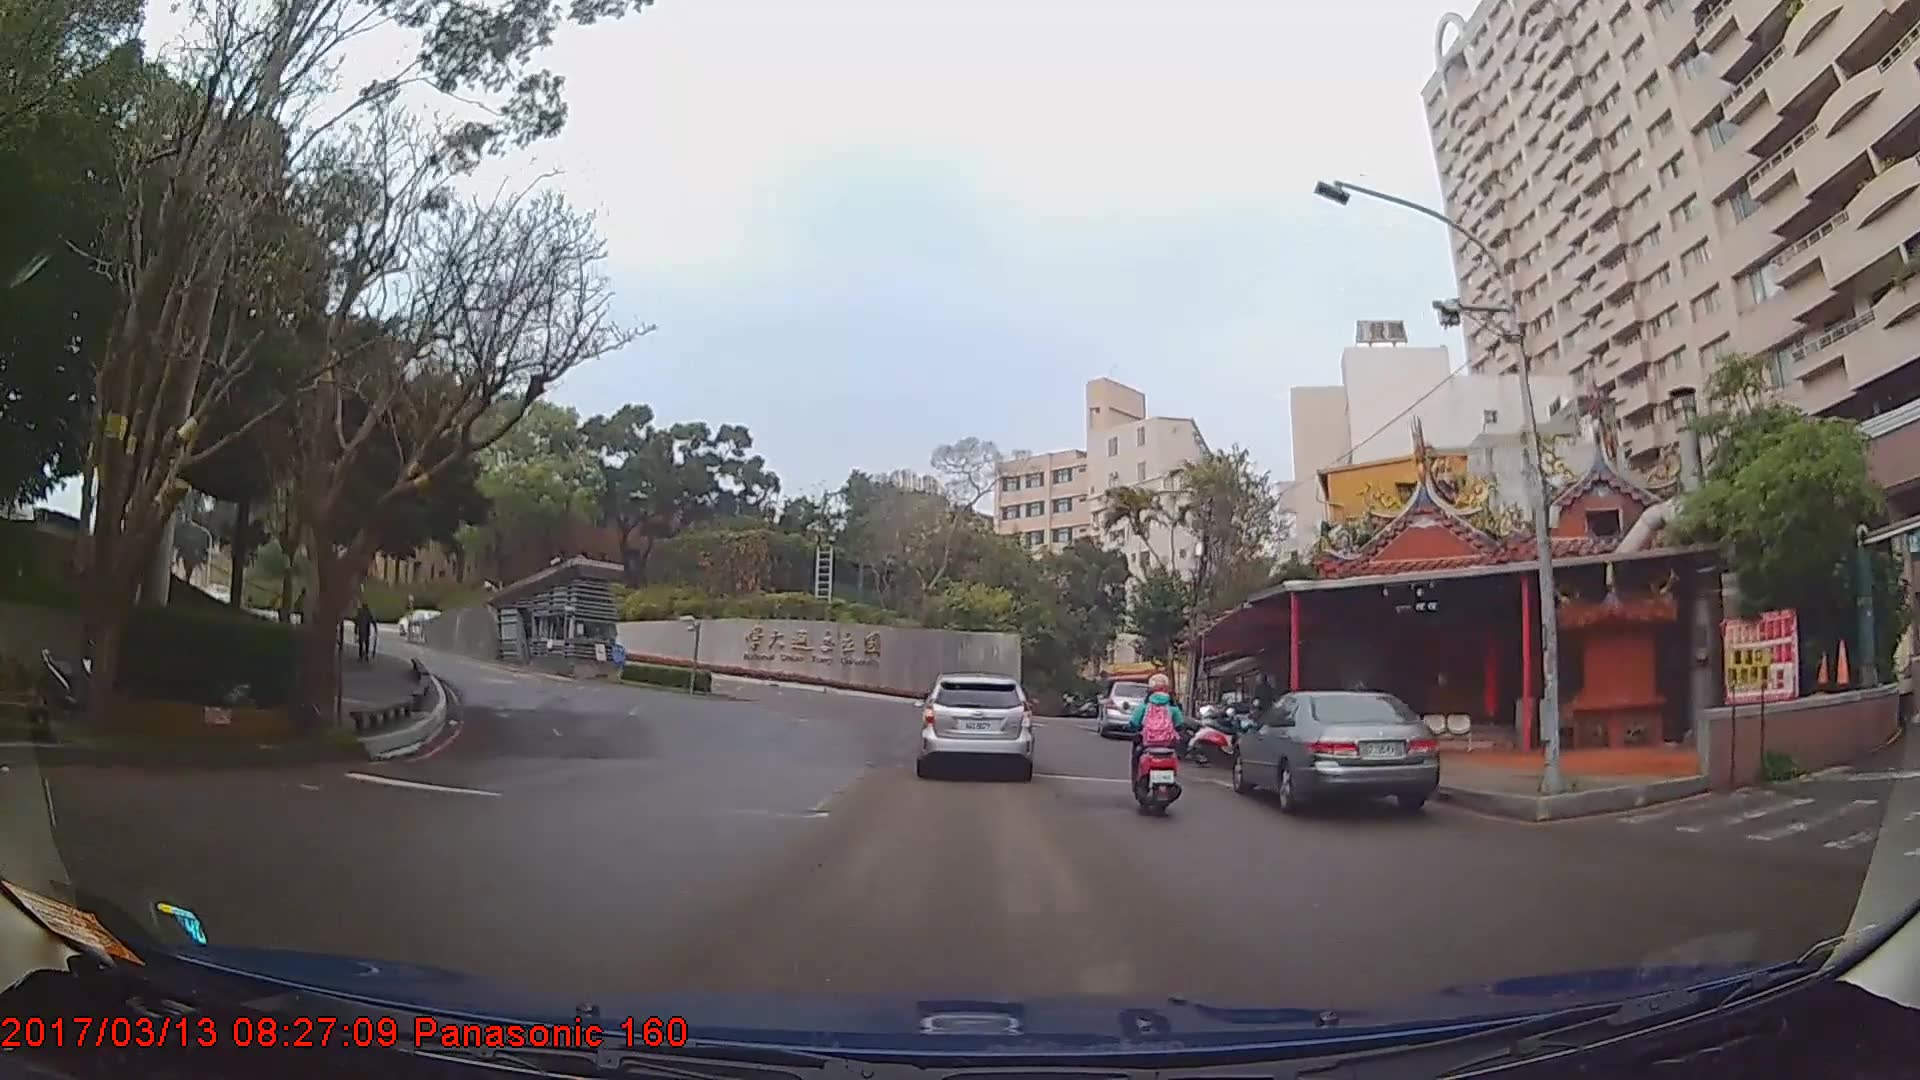pedestrian: (354, 602, 380, 663)
rider: (1127, 660, 1192, 813)
vehicle: (1229, 687, 1440, 817), (916, 669, 1032, 776), (1097, 677, 1159, 734)
